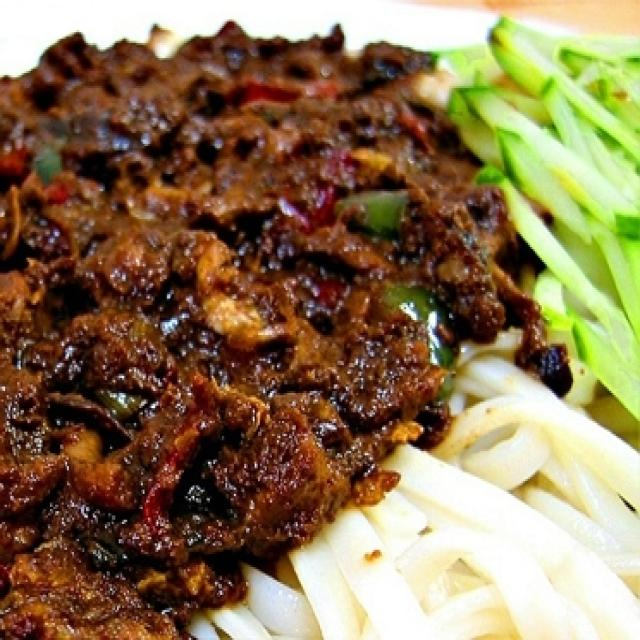面条主食: (16, 15, 574, 608)
